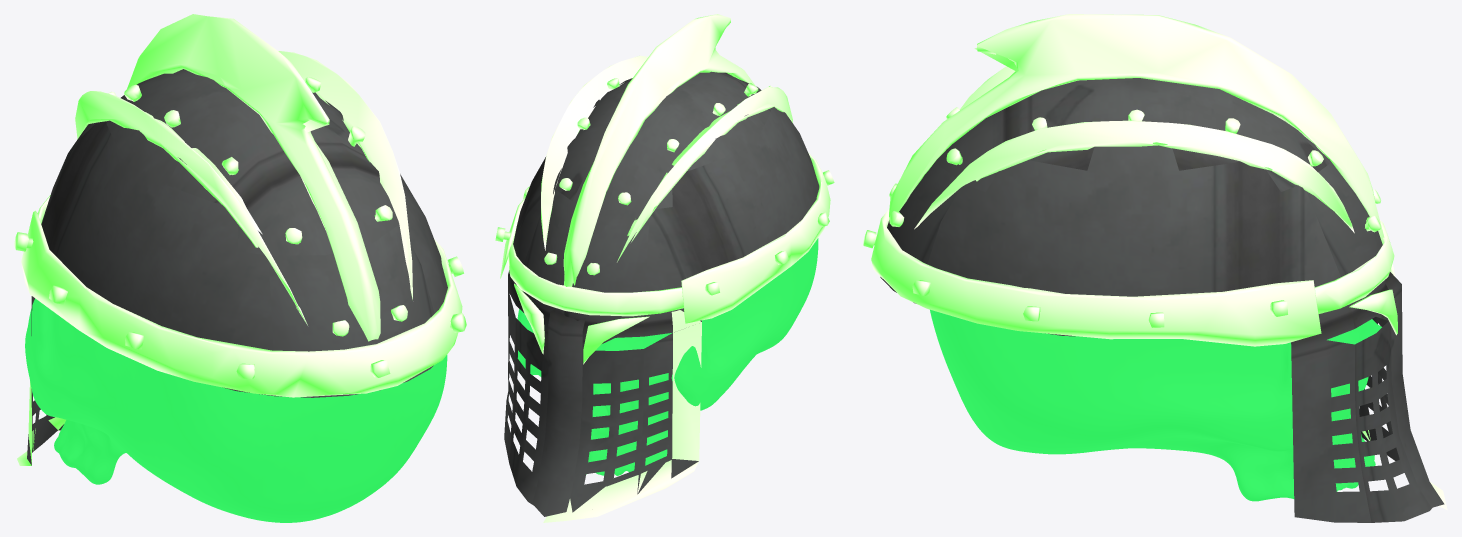
File: objt-1-panic-diama.glb
3 renders of one model, left to right at view 1: azimuth 30°, elevation 25°; view 2: azimuth 150°, elevation 25°; view 3: azimuth 270°, elevation 25°, orthographic. The views are drawn at different scales.
Visible parts, largest first — view 1: Sphere.003, Icosphere, Sphere.006, Sphere.004, NurbsPath, Cylinder.006, Sphere.007, Sphere.010; view 2: Sphere.003, Sphere.007, Icosphere, Sphere.004, NurbsPath, Sphere.011, Sphere.006, Sphere.010, Sphere.005, Cylinder.006, Plane.018; view 3: Sphere.003, Icosphere, Sphere.004, Sphere.006, Sphere.007, NurbsPath, Sphere.011, Cylinder.006, Sphere.005, Plane.018.
Boxes of the visible parts, x1,y1,x2,y2 form: Sphere.003: (41, 69, 447, 397); Icosphere: (25, 298, 447, 522); Sphere.006: (21, 210, 462, 397); Sphere.004: (127, 14, 380, 341); NurbsPath: (75, 51, 412, 325); Cylinder.006: (14, 77, 466, 379); Sphere.007: (27, 296, 63, 465); Sphere.010: (17, 381, 65, 465); Sphere.003: (513, 71, 819, 316); Sphere.007: (504, 270, 701, 512); Icosphere: (517, 238, 818, 475); Sphere.004: (563, 14, 755, 286); NurbsPath: (541, 55, 792, 262); Sphere.011: (532, 308, 585, 516); Sphere.006: (500, 152, 830, 323); Sphere.010: (543, 310, 701, 522); Sphere.005: (507, 244, 683, 316); Cylinder.006: (495, 78, 834, 295); Plane.018: (514, 283, 649, 364); Sphere.003: (880, 78, 1382, 336); Icosphere: (930, 309, 1381, 501); Sphere.004: (889, 14, 1384, 244); Sphere.006: (871, 209, 1321, 346); Sphere.007: (1291, 279, 1432, 522); NurbsPath: (914, 66, 1354, 233); Sphere.011: (1385, 272, 1444, 507); Cylinder.006: (863, 107, 1380, 327); Sphere.005: (1314, 220, 1394, 313); Plane.018: (1349, 263, 1397, 335).
Bounding box in the file's own units: 0.1827 × 0.2592 × 0.2765.
3 materials, 1 textured.
